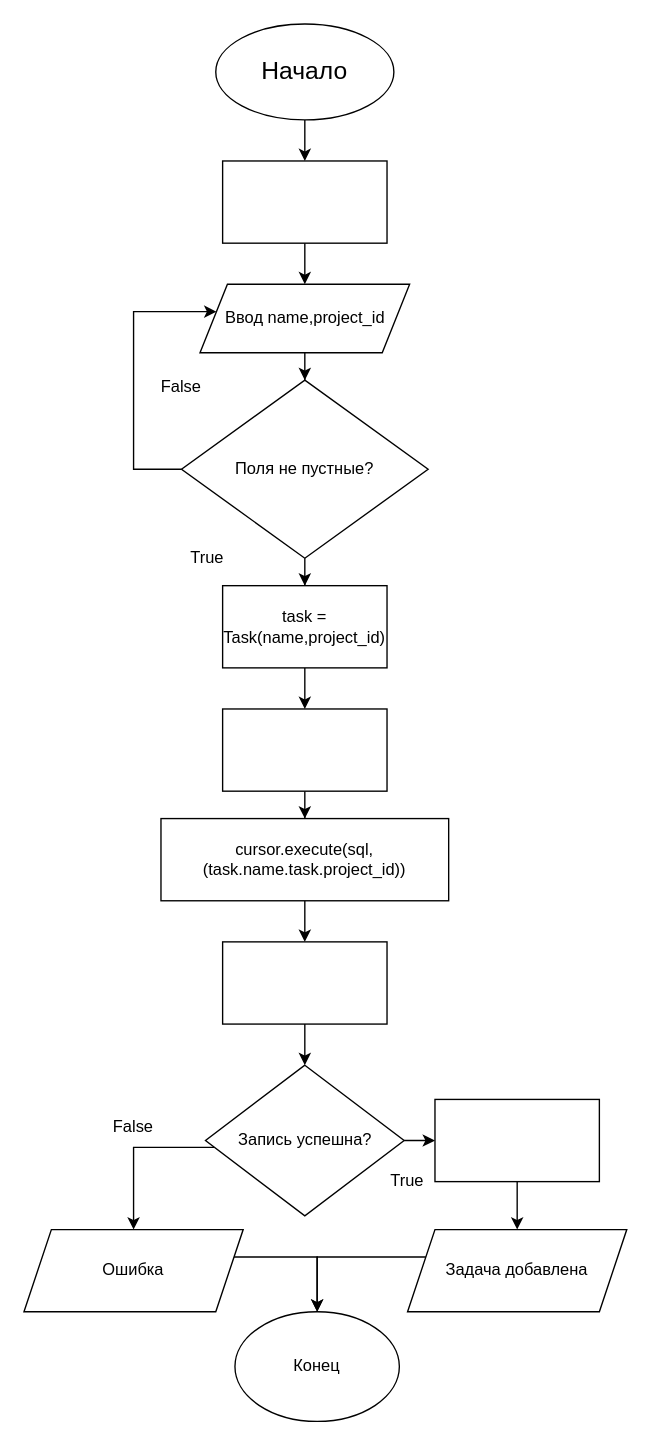
Some shapes in this 651 by 1445 pixel diagram are drawn without their labels. The centre of each missing label's shape, as x and y in pixels:
db.close(): (x=516, y=1140)
db.commit(): (x=304, y=982)
sql = "INSERT INTO tasks": (x=304, y=749)
sqlite3.connect(): (x=304, y=201)
